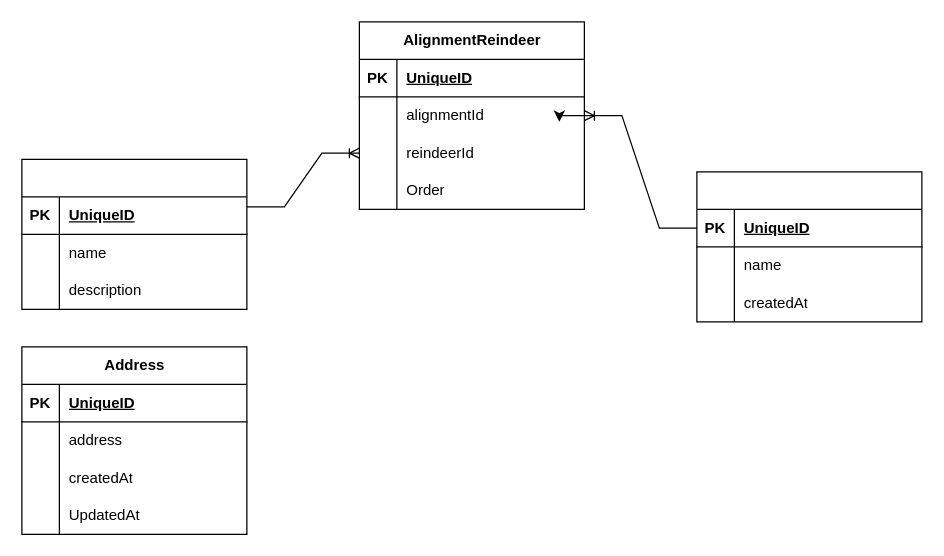
The diagram is 944 pixels wide and 556 high, and some of its shapes have lost their labels. The shapes that lost their labels are listed below. From the top down, each one's box as (x1, y1, x2, y2) in pixels, then its label:
(21, 158, 247, 309): reindeer
(696, 171, 922, 322): Alignment
